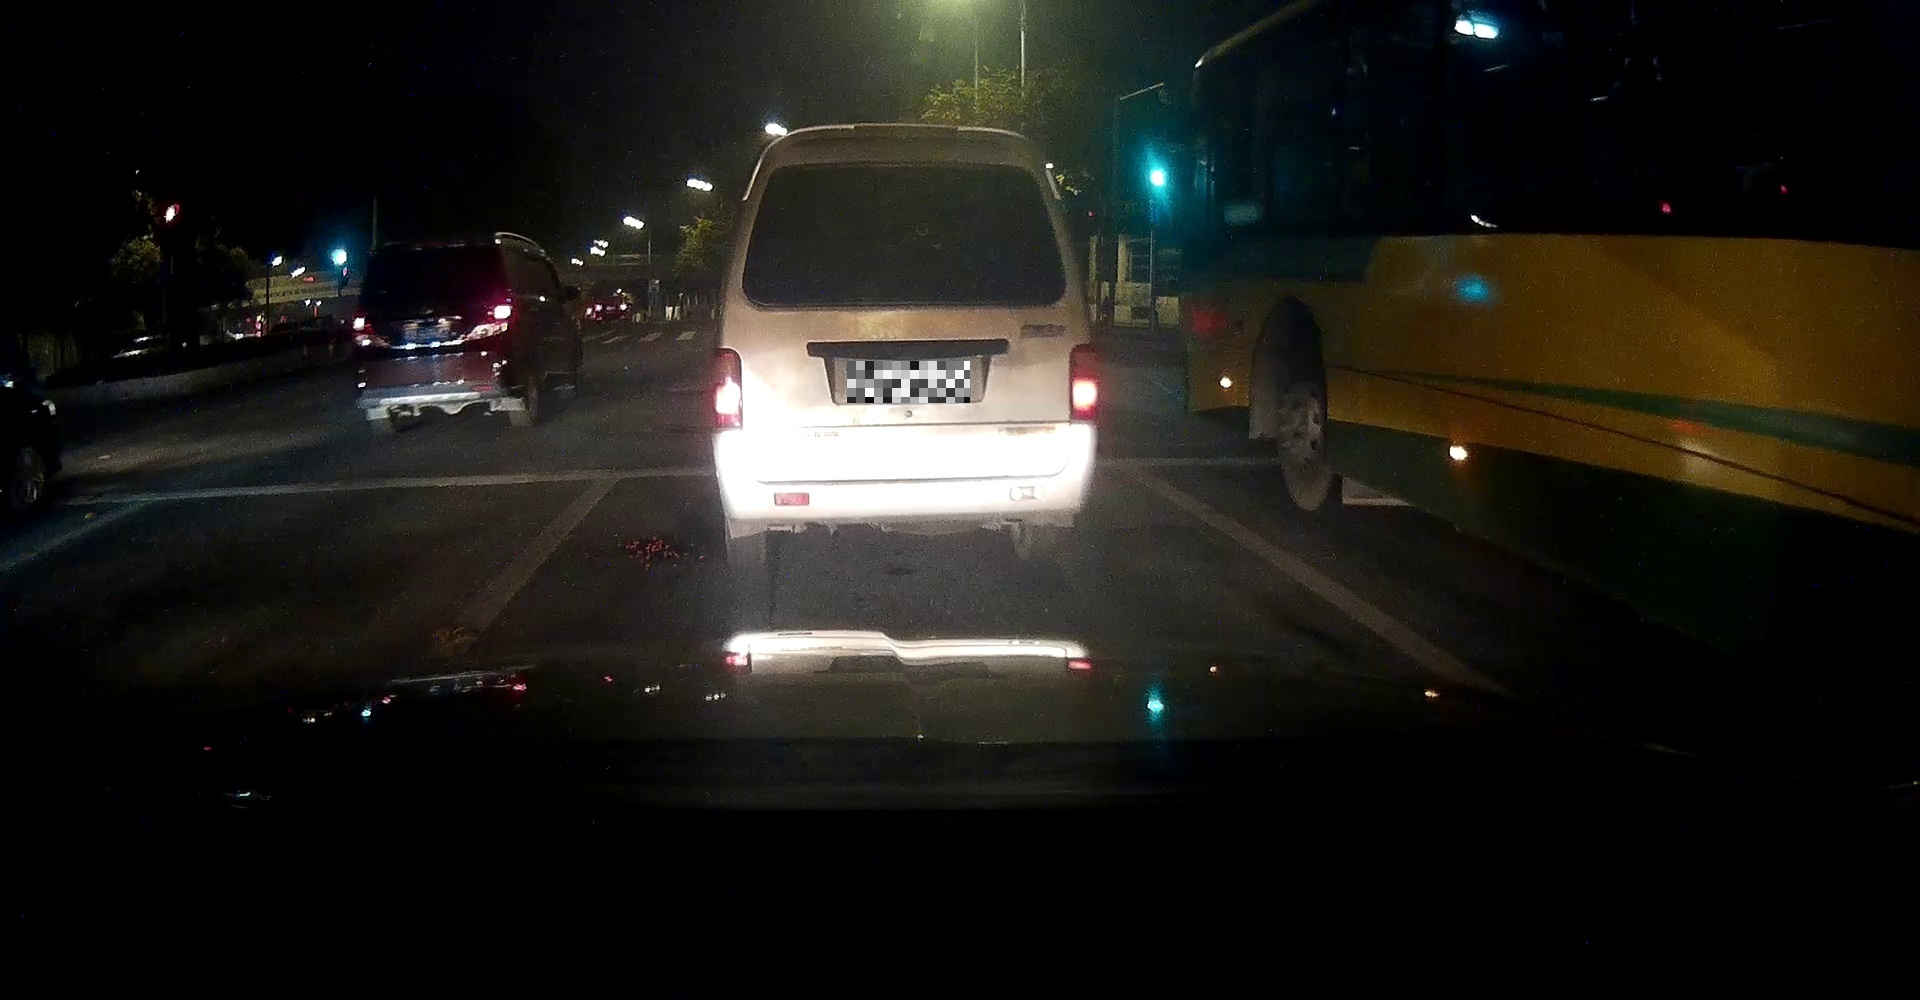L_light: (710, 348, 743, 429), (352, 311, 376, 336)
R_light: (1069, 344, 1100, 420), (484, 298, 516, 324)
T_light: (876, 165, 930, 173), (419, 255, 443, 261)
night-no: (709, 122, 1101, 570), (352, 239, 519, 437)
plate_1: (847, 360, 970, 404)
